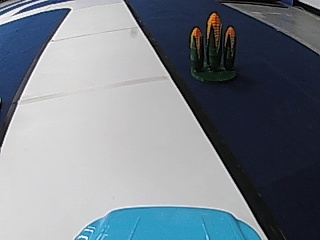corn: (187, 10, 239, 81)
